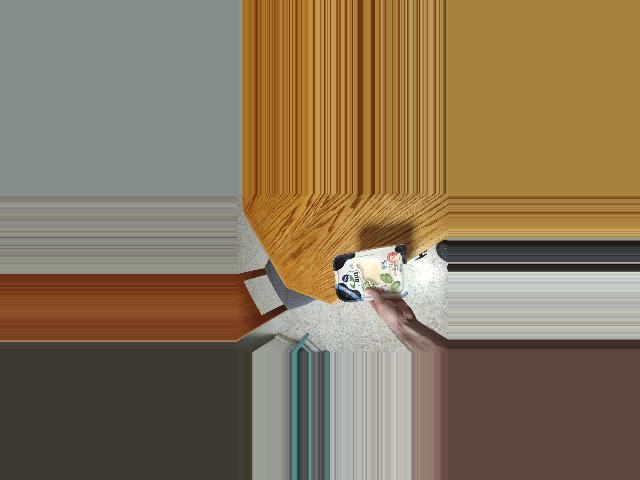cheese: (336, 249, 402, 301)
